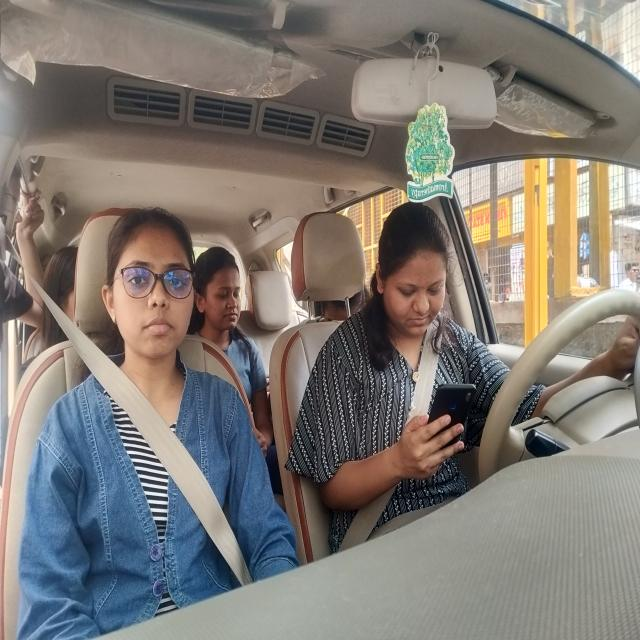mobile: (424, 379, 489, 478)
person: (97, 207, 205, 380), (376, 198, 464, 358), (196, 235, 254, 352)
